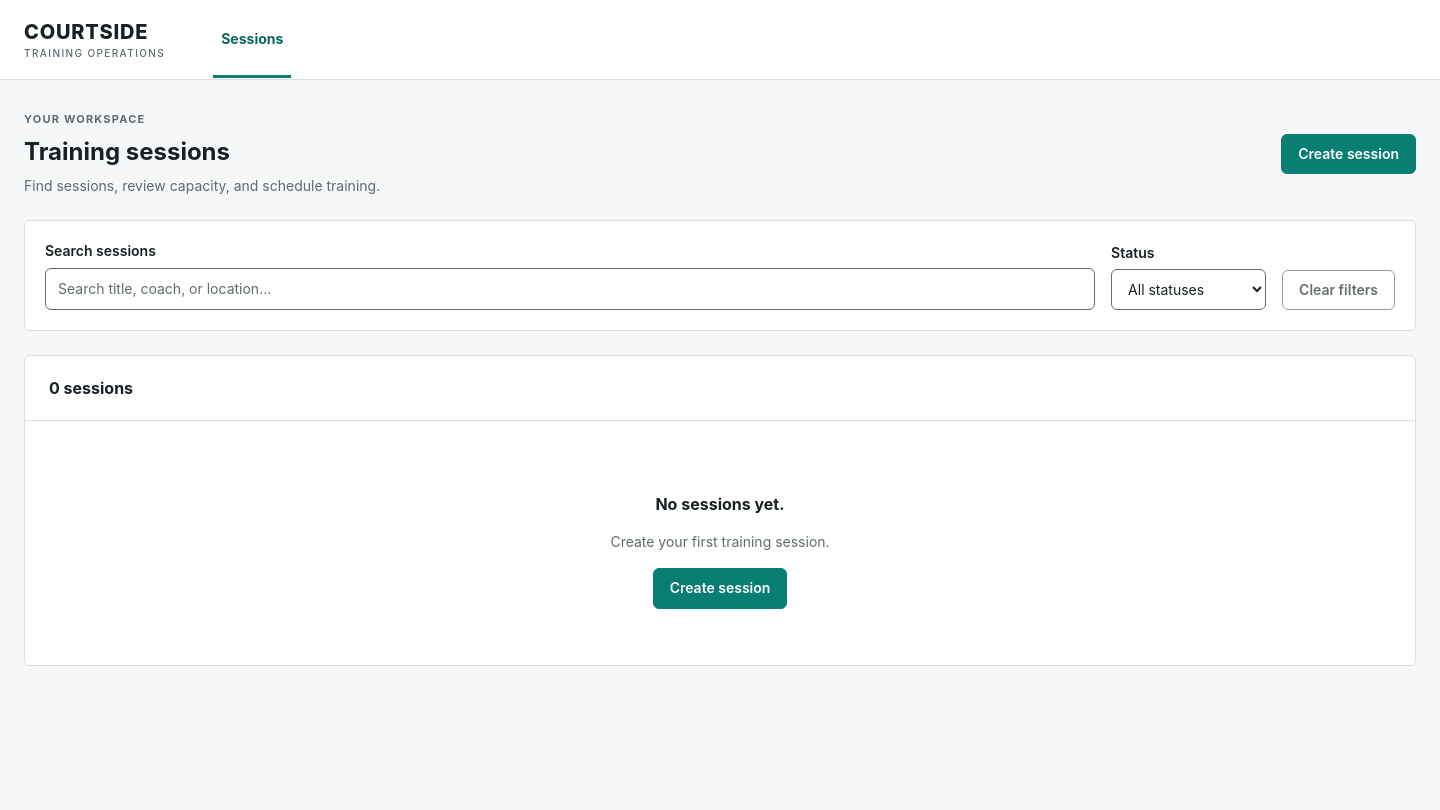
it: shows the distinct empty workspace and allows creation entry
Expected: the heading "No sessions yet." is shown, [655, 494, 785, 514]
Click the link "Create session" in the row of "Training sessions".
click(1349, 154)  # box [1281, 134, 1416, 174]
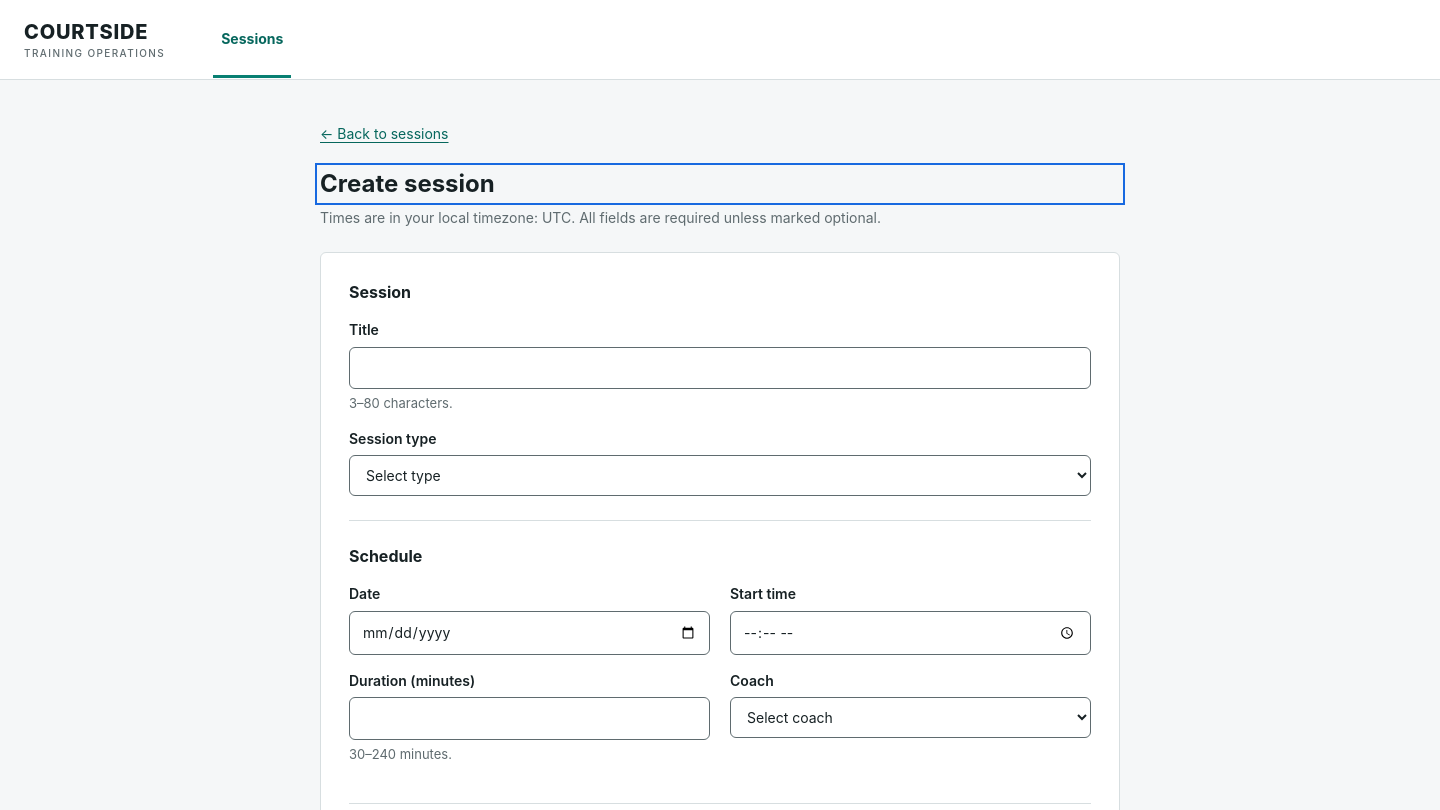
Expected: the heading "Create session" is shown, [320, 169, 495, 198]
Now the field labelled "Title" is shown, box [349, 347, 1091, 389]
